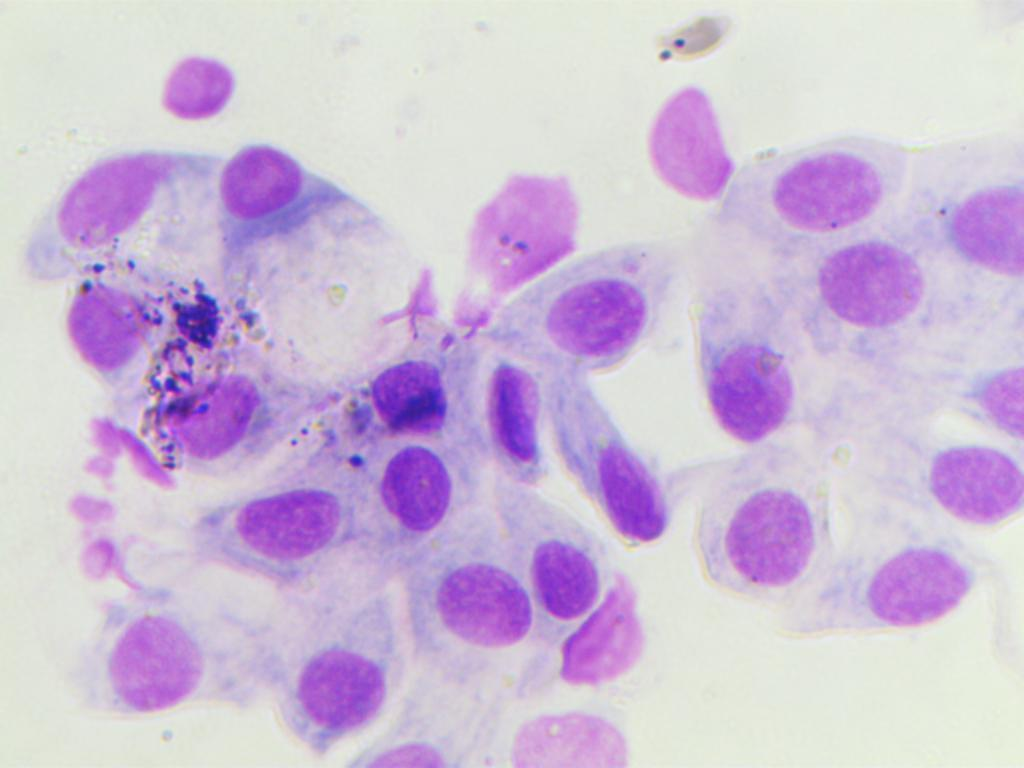artifact: (463, 167, 591, 292), (59, 413, 150, 580), (131, 276, 263, 356), (559, 587, 651, 689)
epithelial: (267, 581, 401, 765), (544, 362, 676, 533), (33, 141, 190, 263), (87, 597, 205, 744), (617, 62, 740, 196), (813, 542, 996, 629), (707, 455, 821, 594), (801, 231, 941, 344), (147, 361, 281, 468), (227, 470, 362, 573), (44, 272, 165, 381), (528, 263, 664, 358), (890, 429, 1023, 525), (771, 134, 893, 238), (700, 333, 818, 440), (411, 548, 531, 652), (501, 696, 646, 768), (141, 22, 239, 127), (354, 343, 461, 438), (370, 440, 463, 544), (946, 171, 1024, 293), (469, 364, 543, 475), (528, 526, 600, 621), (966, 362, 1024, 435)
erythrocyte: (656, 6, 741, 56)
goblet_cell: (205, 136, 399, 289)
